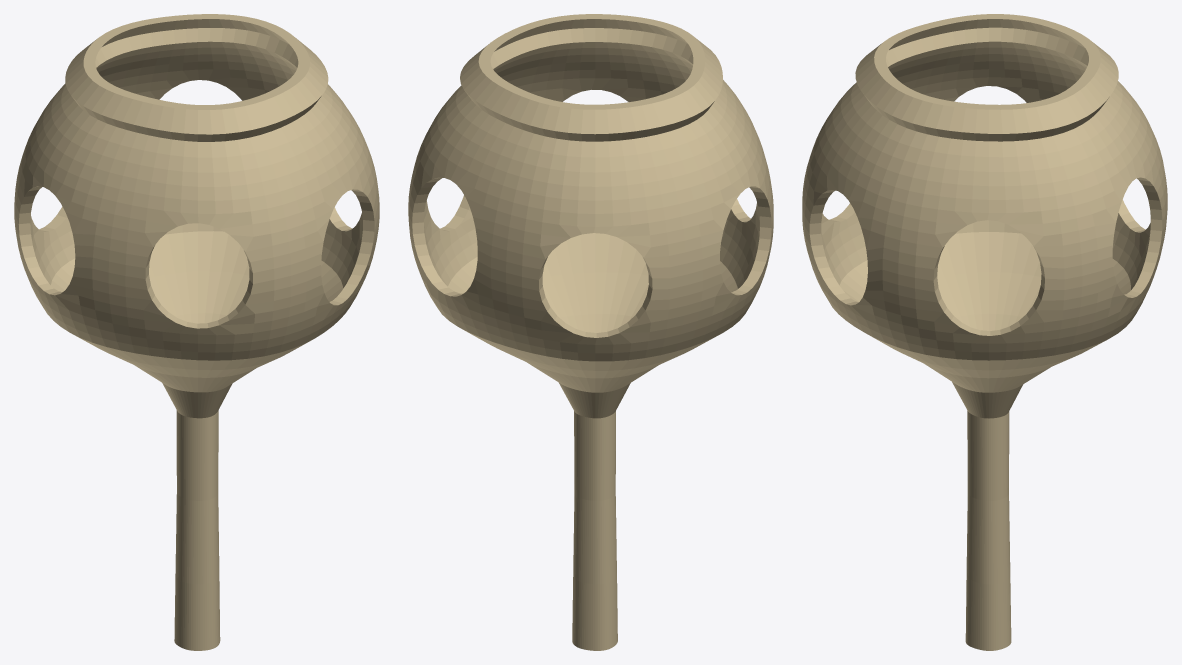
Rendered from namacalathus.glb.
3 renders of one model, left to right at view 1: azimuth 30°, elevation 25°; view 2: azimuth 150°, elevation 25°; view 3: azimuth 270°, elevation 25°, orthographic.
Visible parts, largest first — view 1: windowed-cup-continuous-hollow-stalk; view 2: windowed-cup-continuous-hollow-stalk; view 3: windowed-cup-continuous-hollow-stalk.
Part boxes in pixels (x1,y1,x2,y2): windowed-cup-continuous-hollow-stalk: (14, 14, 379, 650); windowed-cup-continuous-hollow-stalk: (408, 14, 773, 650); windowed-cup-continuous-hollow-stalk: (802, 14, 1167, 650).
Bounding box in the file's own units: 0.0193 × 0.035 × 0.02.
